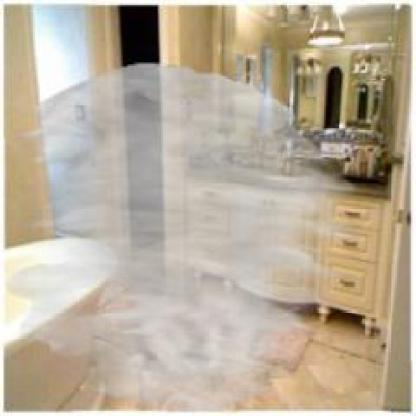Smoke: (5, 63, 361, 413)
